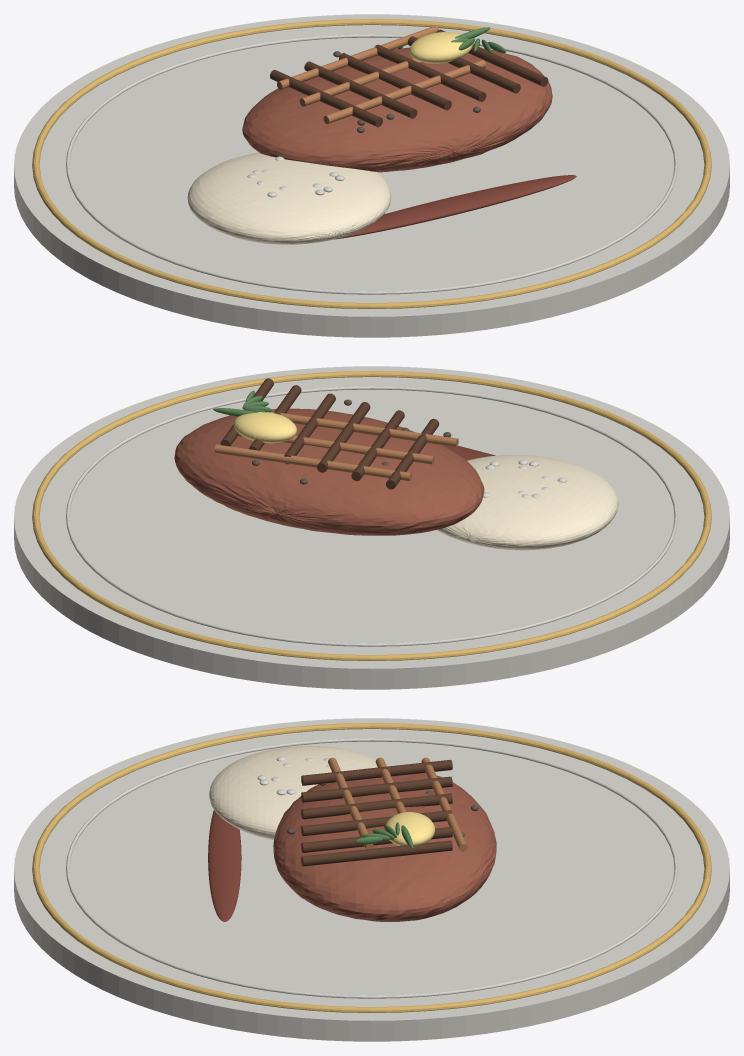
File: wagyu_beef_steak.glb
The picture shows the model from 3 angles, top to bottom: view 1: azimuth 30°, elevation 25°; view 2: azimuth 150°, elevation 25°; view 3: azimuth 270°, elevation 25°; orthographic projection.
Visible parts, largest first — view 1: Porcelain plate, A5 Wagyu steak, Truffle potato mash, Fine gold plate rim, Inner plate groove, Red wine jus, Herb butter, Grill mark diagonal B 3, Grill mark diagonal B 1, Grill mark diagonal A 4, Grill mark diagonal A 2, Grill mark diagonal A 1 (+4 smaller); view 2: Porcelain plate, A5 Wagyu steak, Truffle potato mash, Fine gold plate rim, Inner plate groove, Grill mark diagonal B 1, Herb butter, Grill mark diagonal B 3, Grill mark diagonal B 2, Grill mark diagonal A 2, Grill mark diagonal A 3, Grill mark diagonal A 1 (+1 smaller); view 3: Porcelain plate, A5 Wagyu steak, Fine gold plate rim, Truffle potato mash, Inner plate groove, Red wine jus, Grill mark diagonal A 6, Grill mark diagonal A 1, Grill mark diagonal A 2, Grill mark diagonal A 3, Herb butter, Grill mark diagonal A 4 (+3 smaller).
Part boxes in pixels (x1,y1,x2,y2): Porcelain plate: [14, 14, 729, 337]; A5 Wagyu steak: [242, 47, 552, 172]; Truffle potato mash: [187, 152, 391, 244]; Fine gold plate rim: [32, 19, 711, 308]; Inner plate groove: [66, 34, 677, 294]; Red wine jus: [334, 175, 576, 239]; Herb butter: [409, 32, 472, 63]; Grill mark diagonal B 3: [323, 60, 485, 123]; Grill mark diagonal B 1: [277, 25, 438, 89]; Grill mark diagonal A 4: [374, 44, 486, 101]; Grill mark diagonal A 2: [304, 61, 417, 118]; Grill mark diagonal A 1: [270, 70, 382, 127]; Porcelain plate: [14, 366, 729, 689]; A5 Wagyu steak: [174, 408, 484, 535]; Truffle potato mash: [436, 455, 618, 550]; Fine gold plate rim: [32, 371, 711, 660]; Inner plate groove: [66, 386, 677, 646]; Grill mark diagonal B 1: [214, 444, 411, 481]; Herb butter: [233, 412, 296, 443]; Grill mark diagonal B 3: [270, 411, 458, 447]; Grill mark diagonal B 2: [238, 433, 434, 464]; Grill mark diagonal A 2: [351, 410, 404, 480]; Grill mark diagonal A 3: [317, 402, 370, 472]; Grill mark diagonal A 1: [386, 418, 439, 489]; Porcelain plate: [14, 718, 729, 1041]; A5 Wagyu steak: [273, 768, 496, 921]; Fine gold plate rim: [32, 723, 711, 1012]; Truffle potato mash: [209, 745, 388, 839]; Inner plate groove: [66, 738, 677, 998]; Red wine jus: [208, 810, 241, 921]; Grill mark diagonal A 6: [301, 840, 452, 866]; Grill mark diagonal A 1: [301, 759, 452, 785]; Grill mark diagonal A 2: [301, 776, 452, 802]; Grill mark diagonal A 3: [301, 793, 452, 819]; Herb butter: [384, 812, 434, 845]; Grill mark diagonal A 4: [301, 810, 452, 836].
Bounding box in the file's own units: 18 × 3.17 × 18.
